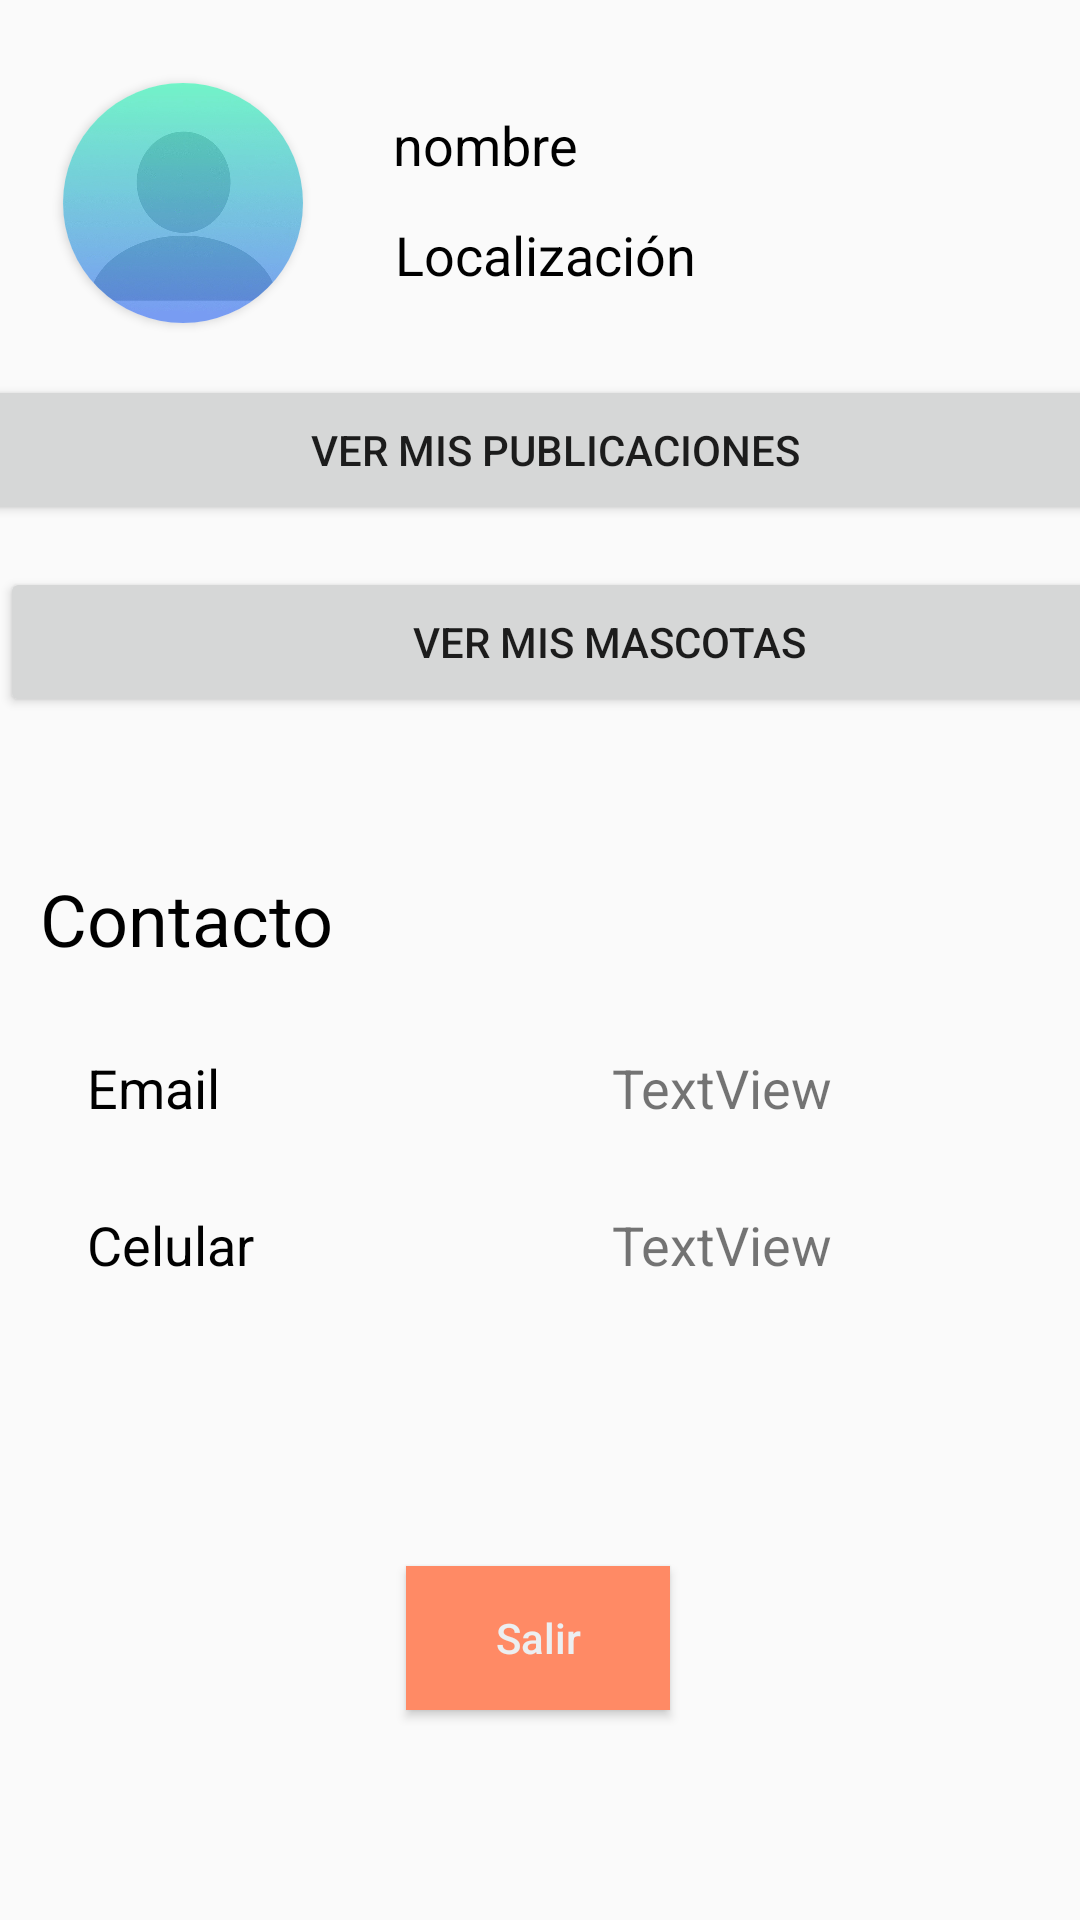

Icons on this 1080px×1920px Android screen, each with the point to tap as (x,y):
blank profile: (183,203)
